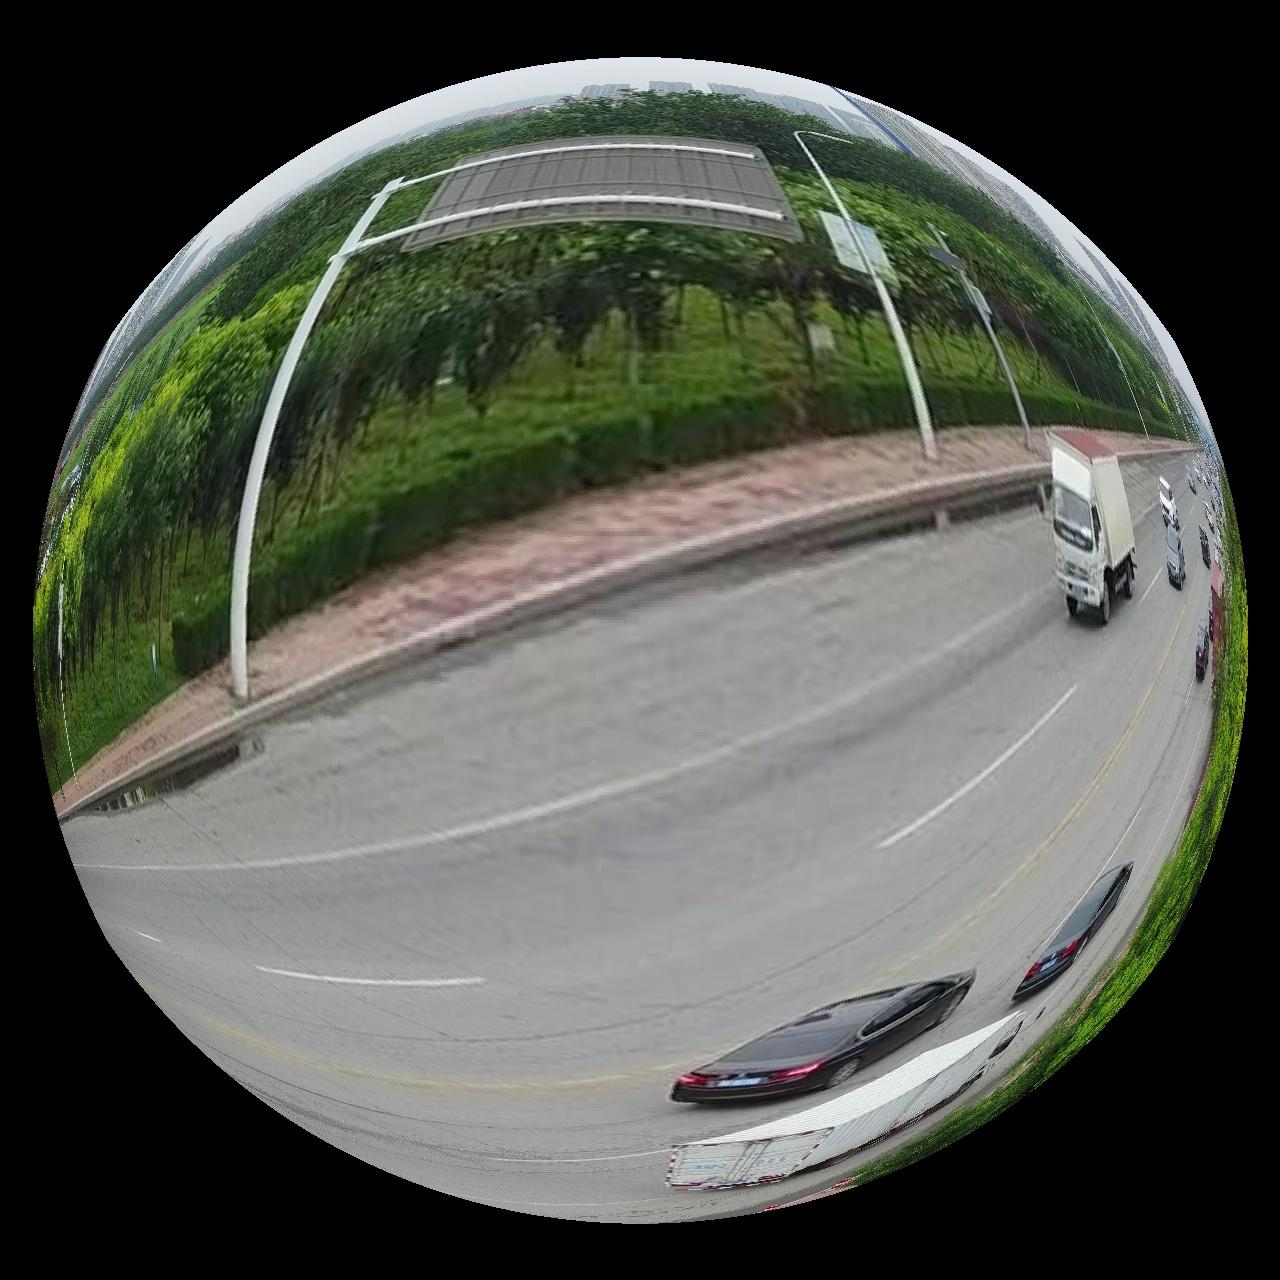cars: (667, 1014, 1027, 1193), (671, 972, 977, 1104), (1049, 427, 1140, 624), (1014, 864, 1134, 1002), (1170, 523, 1189, 590), (1198, 618, 1216, 682), (1161, 476, 1181, 528)
trees: (33, 77, 1202, 786)
